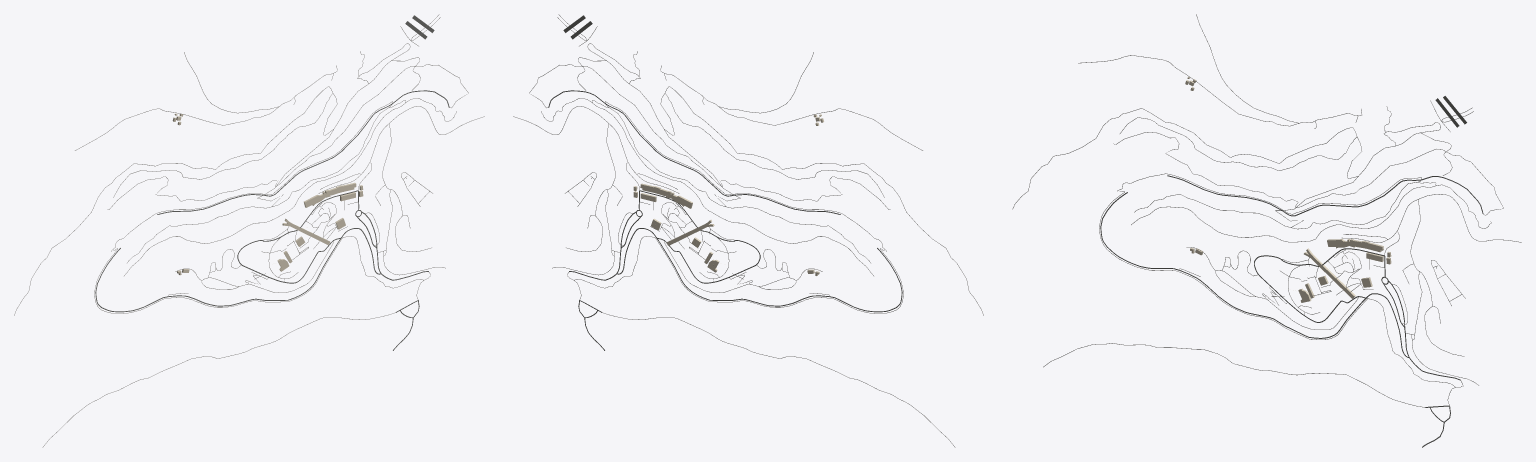
Rendered from historic-palestine-10_23_3517_3177.glb.
3 renders of one model, left to right at view 1: azimuth 30°, elevation 25°; view 2: azimuth 150°, elevation 25°; view 3: azimuth 330°, elevation 25°, orthographic. The views are drawn at different scales.
Parts seen in each view (by area): view 1: Road שוכמן; view 2: Road שוכמן; view 3: Road שוכמן.
Boxes of the visible parts, x1=… form: Road שוכמן: x1=95, y1=238, x2=341, y2=312; Road שוכמן: x1=656, y1=238, x2=902, y2=312; Road שוכמן: x1=1100, y1=192, x2=1366, y2=338.
Size of the model in its own units: 1757 by 1288 by 9.09.
